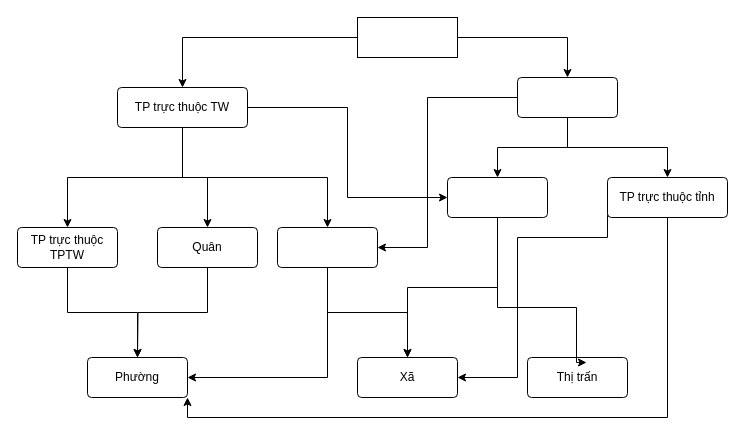
The diagram is 745 pixels wide and 443 high, and some of its shapes have lost their labels. Each missing label, with the centre of its shape:
Huyện: pixel 497 197
Thị xã: pixel 327 247
Tỉnh: pixel 567 97
Vietnam: pixel 407 37
